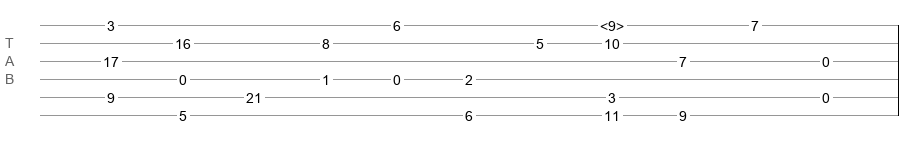0: (179, 72, 187, 82), (393, 72, 401, 82), (822, 54, 830, 64), (822, 90, 830, 100)
1: (322, 72, 330, 82)
10: (604, 36, 620, 46)
11: (604, 108, 620, 118)
16: (175, 36, 191, 46)
17: (103, 54, 119, 64)
2: (465, 72, 473, 82)
21: (246, 90, 262, 100)
3: (107, 18, 115, 28), (608, 90, 616, 100)
5: (179, 108, 187, 118), (536, 36, 544, 46)
6: (393, 18, 401, 28), (465, 108, 473, 118)
7: (679, 54, 687, 64), (751, 18, 759, 28)
8: (322, 36, 330, 46)
9: (107, 90, 115, 100), (679, 108, 687, 118)
harmonic: (600, 18, 624, 28)
